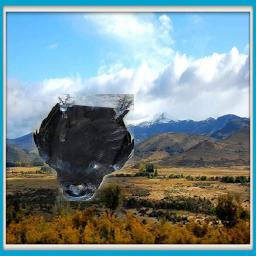Crow: (32, 95, 134, 202)
